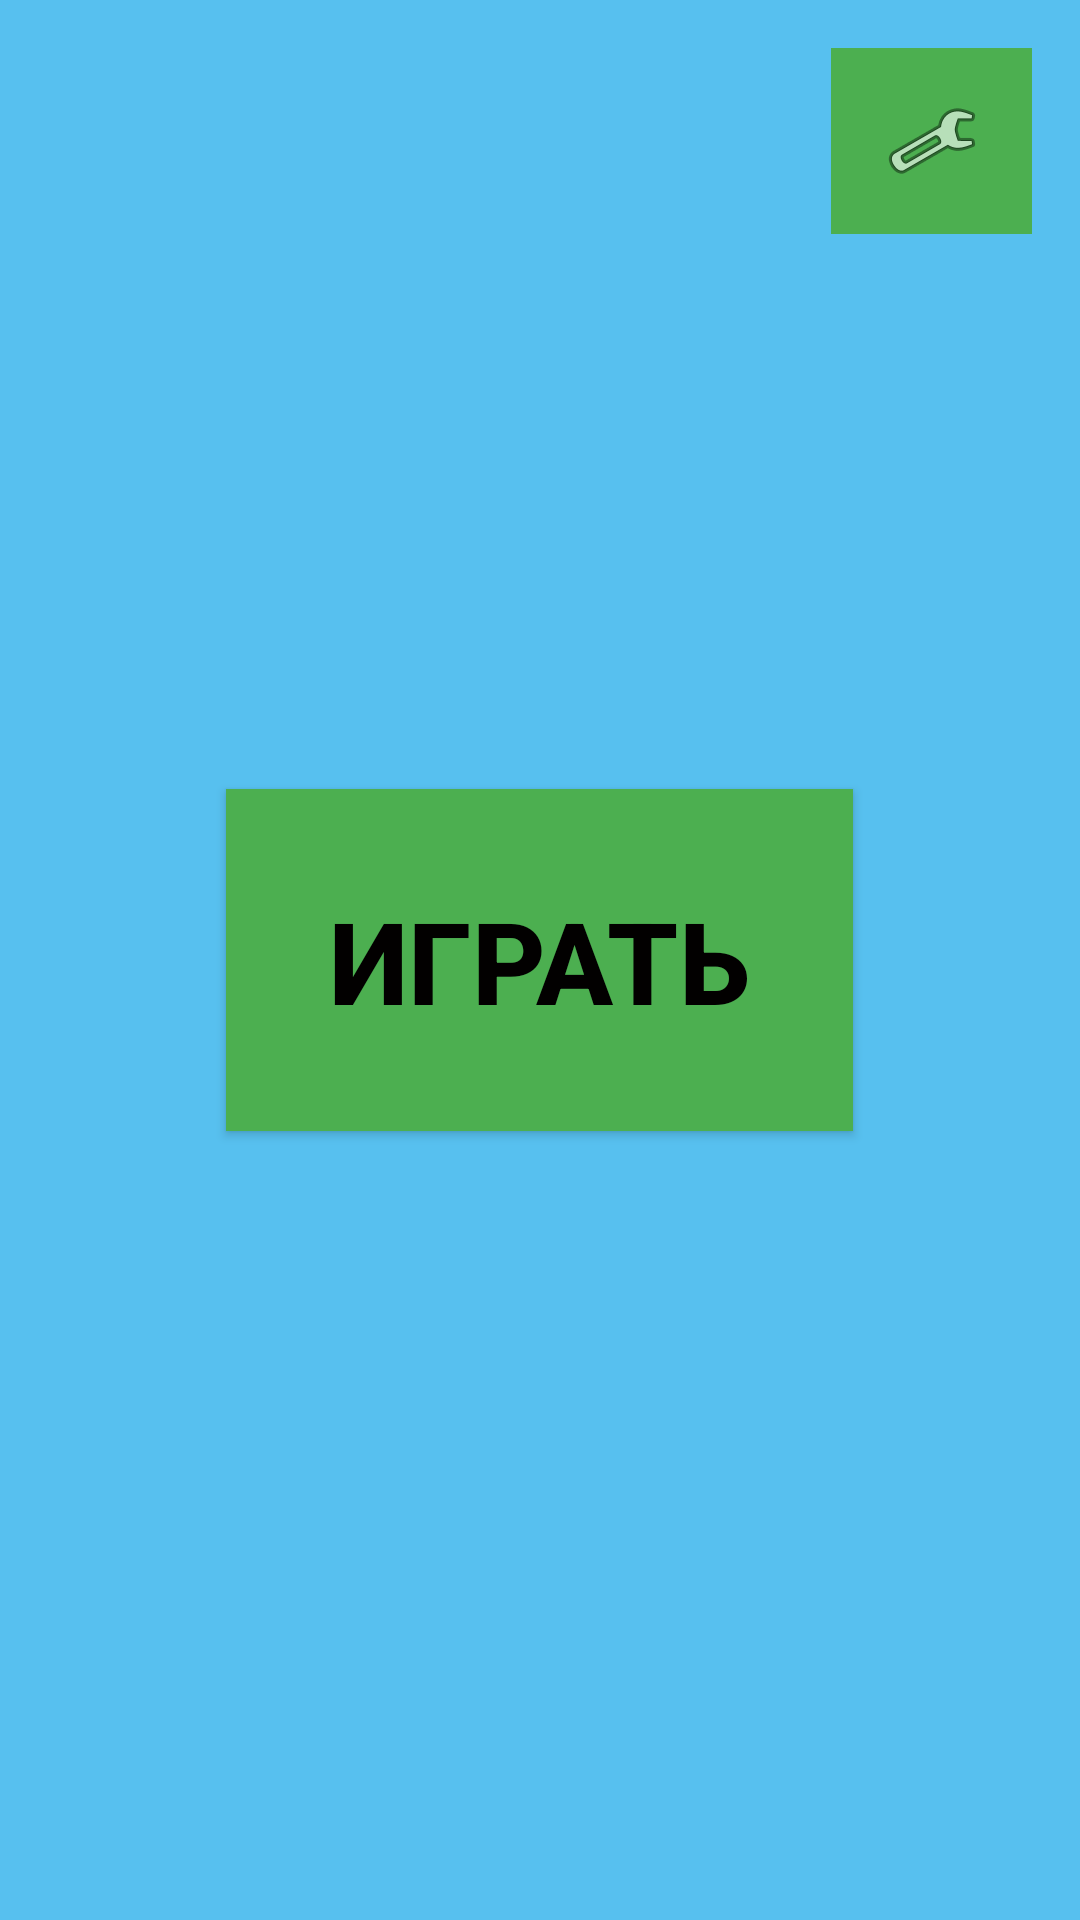

Named icons in this screenshot (1080*1920) and their centers, point (x, y):
settings: point (931, 141)
